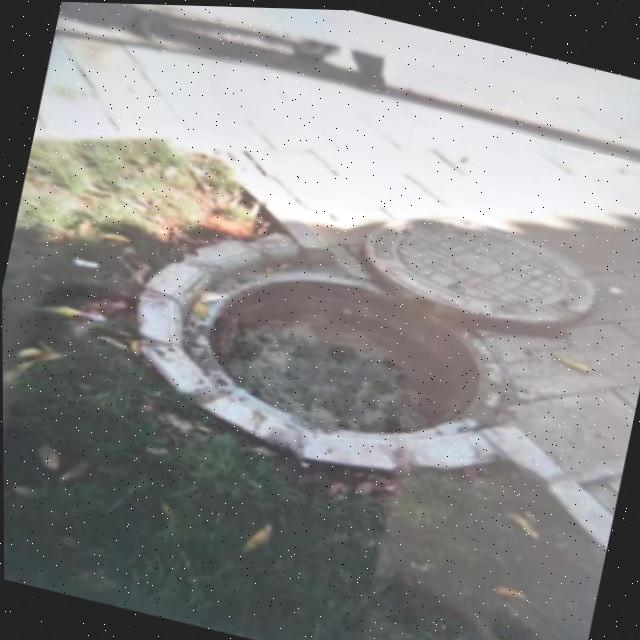manhole: (161, 222, 523, 477)
